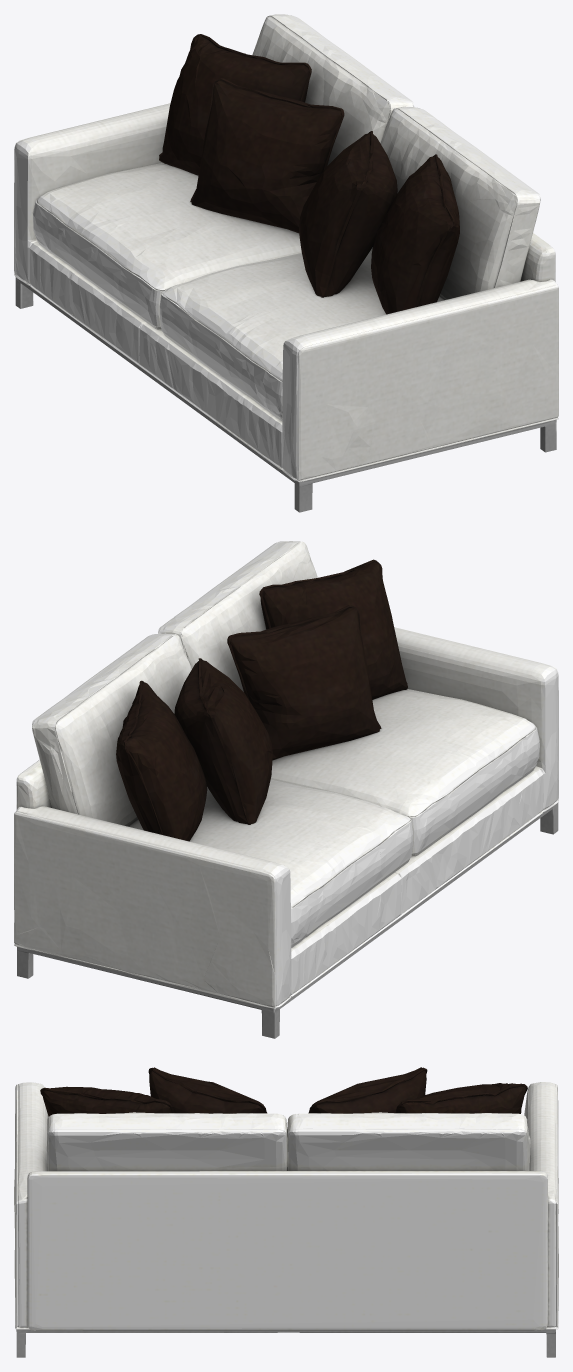
Rendered from 2_1c6f1892-23cf-41ee-b707-7d79fca07cf3.obj.
3 renders of one model, top to bottom at view 1: azimuth 30°, elevation 25°; view 2: azimuth 150°, elevation 25°; view 3: azimuth 270°, elevation 25°, orthographic. The views are drawn at different scales.
Size of the model in its own units: 0.9481 by 0.8411 by 1.76.
1 material, 1 textured.
